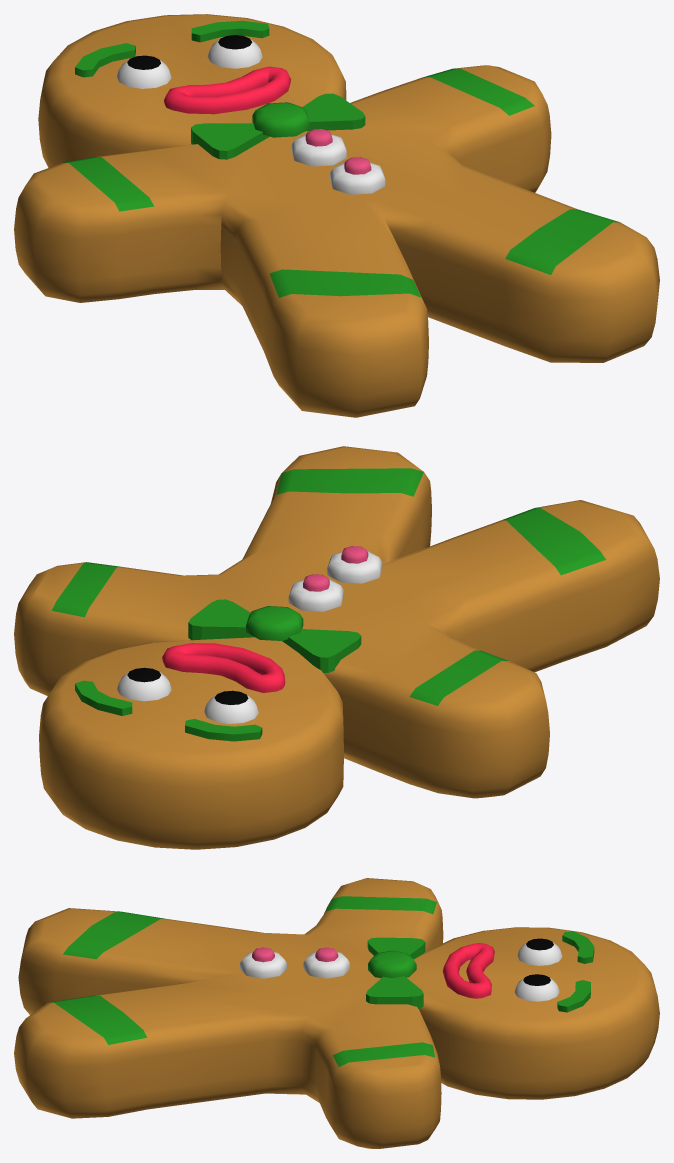
File: CookieMan.fbx
The picture shows the model from 3 angles, top to bottom: view 1: azimuth 30°, elevation 25°; view 2: azimuth 150°, elevation 25°; view 3: azimuth 270°, elevation 25°; orthographic projection. The views are drawn at different scales.
Visible parts, largest first — view 1: cookieman; view 2: cookieman; view 3: cookieman.
Boxes of the visible parts, x1=… form: cookieman: x1=14, y1=14, x2=659, y2=417; cookieman: x1=14, y1=446, x2=659, y2=849; cookieman: x1=14, y1=878, x2=659, y2=1148.
Bounding box in the file's own units: 1.82 × 0.422 × 2.41.
